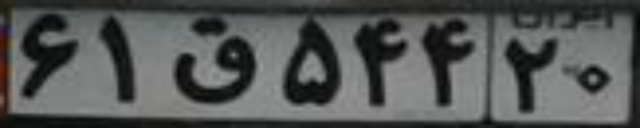0: (572, 63, 612, 94)
1: (96, 14, 137, 101)
2: (504, 35, 561, 111)
4: (418, 19, 476, 108), (350, 19, 407, 107)
5: (278, 17, 340, 105)
6: (17, 12, 77, 100)
ghaf: (163, 16, 261, 104)
